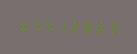eight: (82, 20, 94, 34)
four: (43, 19, 55, 33)
one: (56, 19, 68, 33)
seven: (30, 19, 42, 33)
six: (95, 20, 107, 34)
three: (108, 20, 120, 34)
two: (69, 20, 81, 34)
zero: (17, 19, 29, 33)
